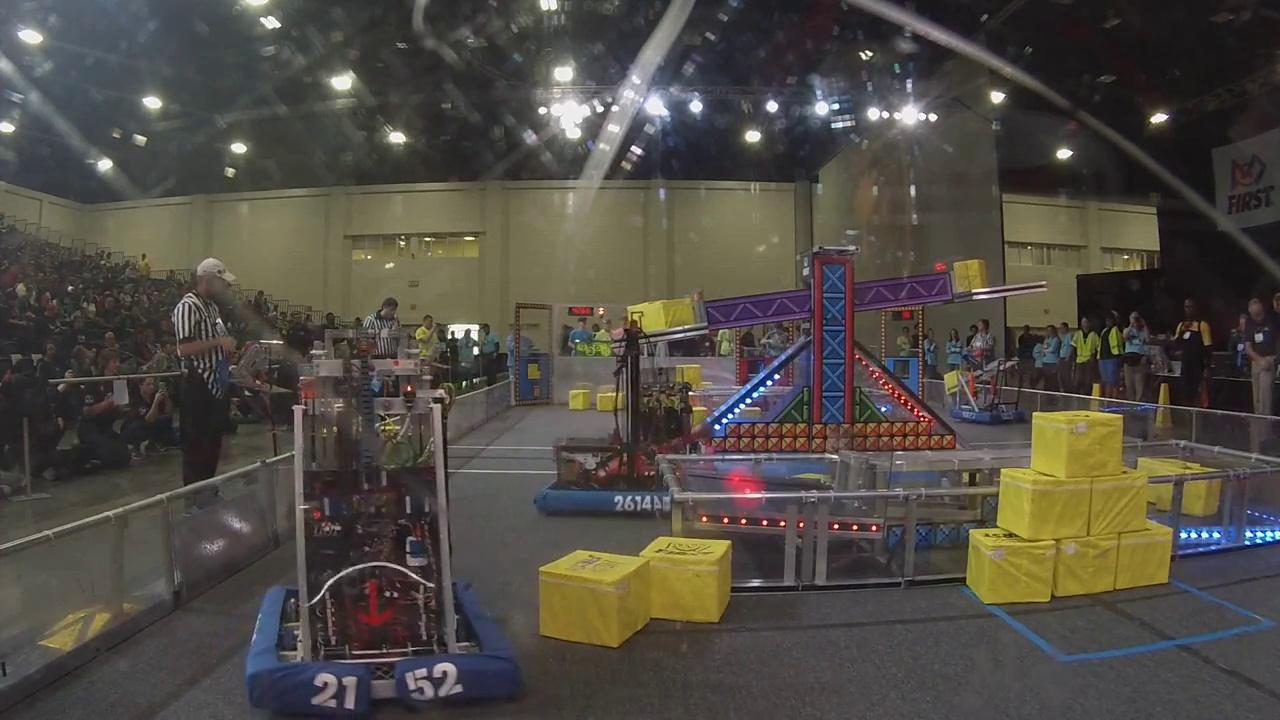robot: (243, 384, 524, 717), (537, 320, 691, 518), (944, 346, 1025, 426)
